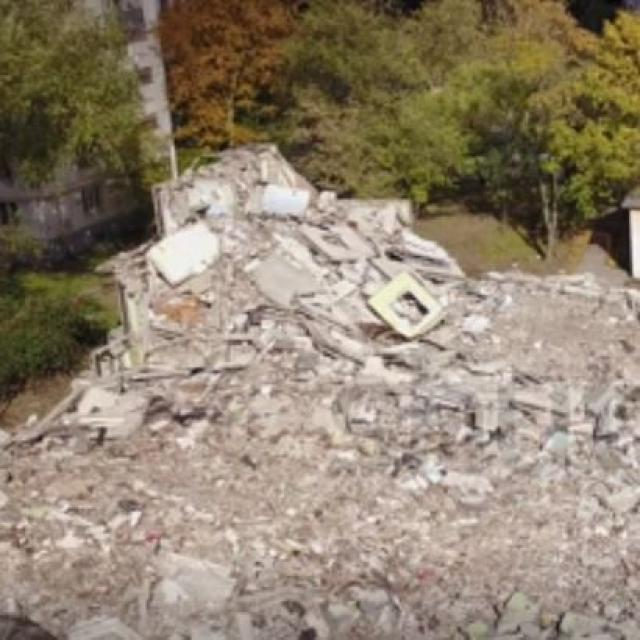collapsed_building: (92, 184, 624, 638)
